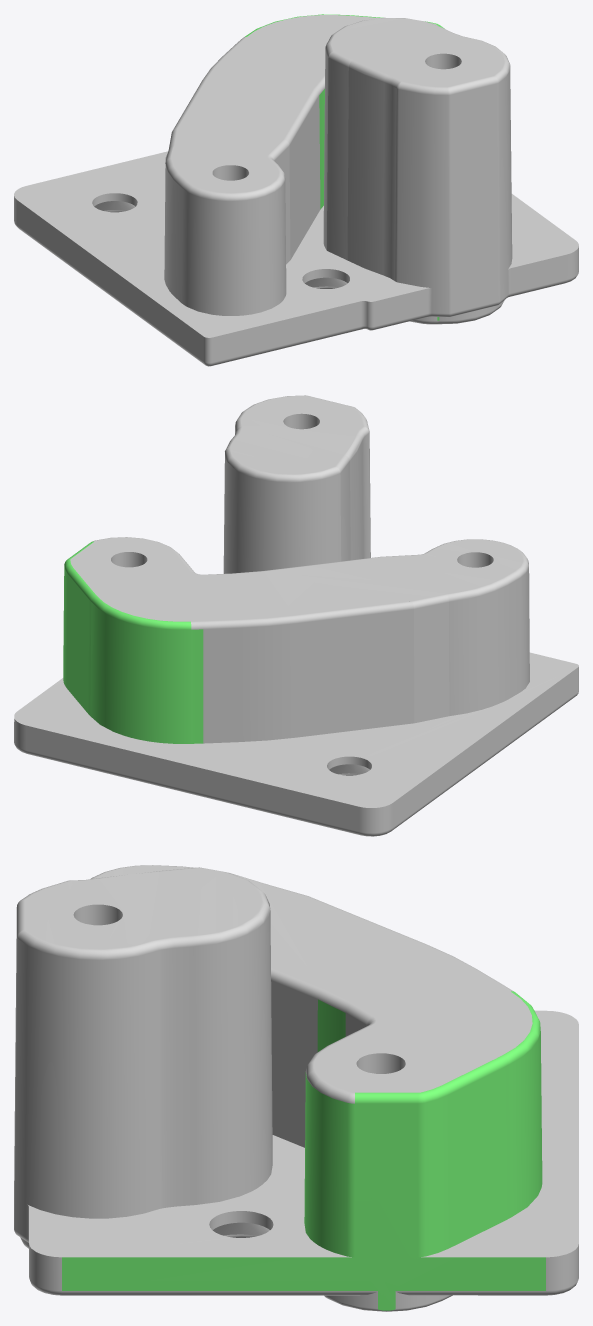
3 renders of one model, top to bottom at view 1: azimuth 30°, elevation 25°; view 2: azimuth 150°, elevation 25°; view 3: azimuth 270°, elevation 25°, orthographic. The views are drawn at different scales.
Visible parts, largest first — view 1: 门体-80_Default; view 2: 门体-80_Default; view 3: 门体-80_Default.
Boxes of the visible parts, x1,y1,x2,y2 form: 门体-80_Default: (14, 14, 578, 366); 门体-80_Default: (14, 395, 578, 836); 门体-80_Default: (14, 865, 578, 1311).
Size of the model in its own units: 0.0354 by 0.0215 by 0.0343.
